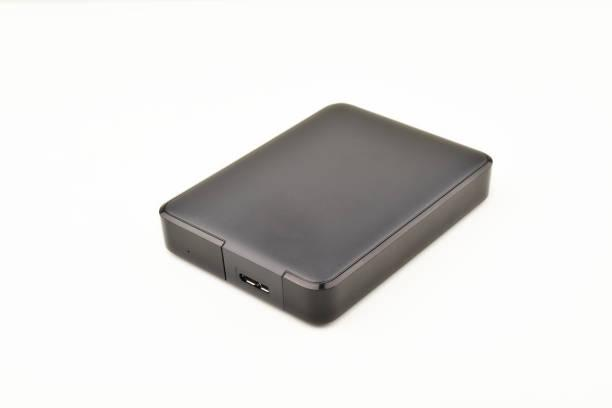HDD: (158, 103, 494, 328)
